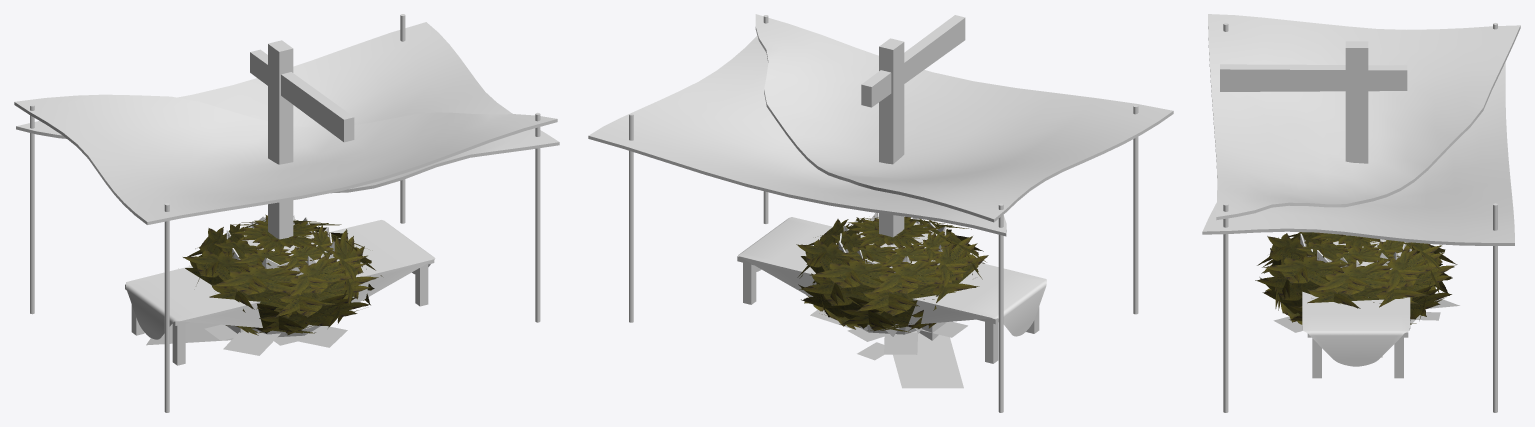
The model's file is NovaCenaAssets.fbx.
The picture shows the model from 3 angles, left to right: view 1: azimuth 30°, elevation 25°; view 2: azimuth 150°, elevation 25°; view 3: azimuth 270°, elevation 25°; orthographic projection.
Visible parts, largest first — view 1: Tend, Bush, TableCloth, Post, Folliage2, Table, BarrelBottom, Folliage1; view 2: Tend, Bush, TableCloth, Post, Folliage2, Table, Folliage1, BarrelBottom; view 3: Tend, Bush, Post, TableCloth, Table, Folliage2, BarrelBottom.
Boxes of the visible parts, x1,y1,x2,y2 form: Tend: (14, 14, 559, 412); Bush: (183, 214, 382, 335); TableCloth: (126, 220, 435, 339); Post: (250, 40, 354, 246); Folliage2: (146, 310, 352, 355); Table: (125, 260, 434, 365); BarrelBottom: (226, 215, 334, 336); Folliage1: (204, 324, 308, 345); Tend: (588, 14, 1173, 412); Bush: (796, 216, 988, 332); TableCloth: (738, 217, 1046, 336); Post: (861, 15, 965, 244); Folliage2: (810, 310, 963, 388); Table: (737, 256, 1039, 363); Folliage1: (847, 321, 967, 354); BarrelBottom: (838, 213, 946, 334); Tend: (1202, 14, 1520, 412); Bush: (1255, 232, 1457, 324); Post: (1220, 41, 1407, 236); TableCloth: (1302, 291, 1410, 366); Table: (1307, 331, 1408, 378); Folliage2: (1273, 299, 1459, 357); BarrelBottom: (1300, 233, 1411, 272).
Bounding box in the file's own units: 3.34 × 2.19 × 2.13.
